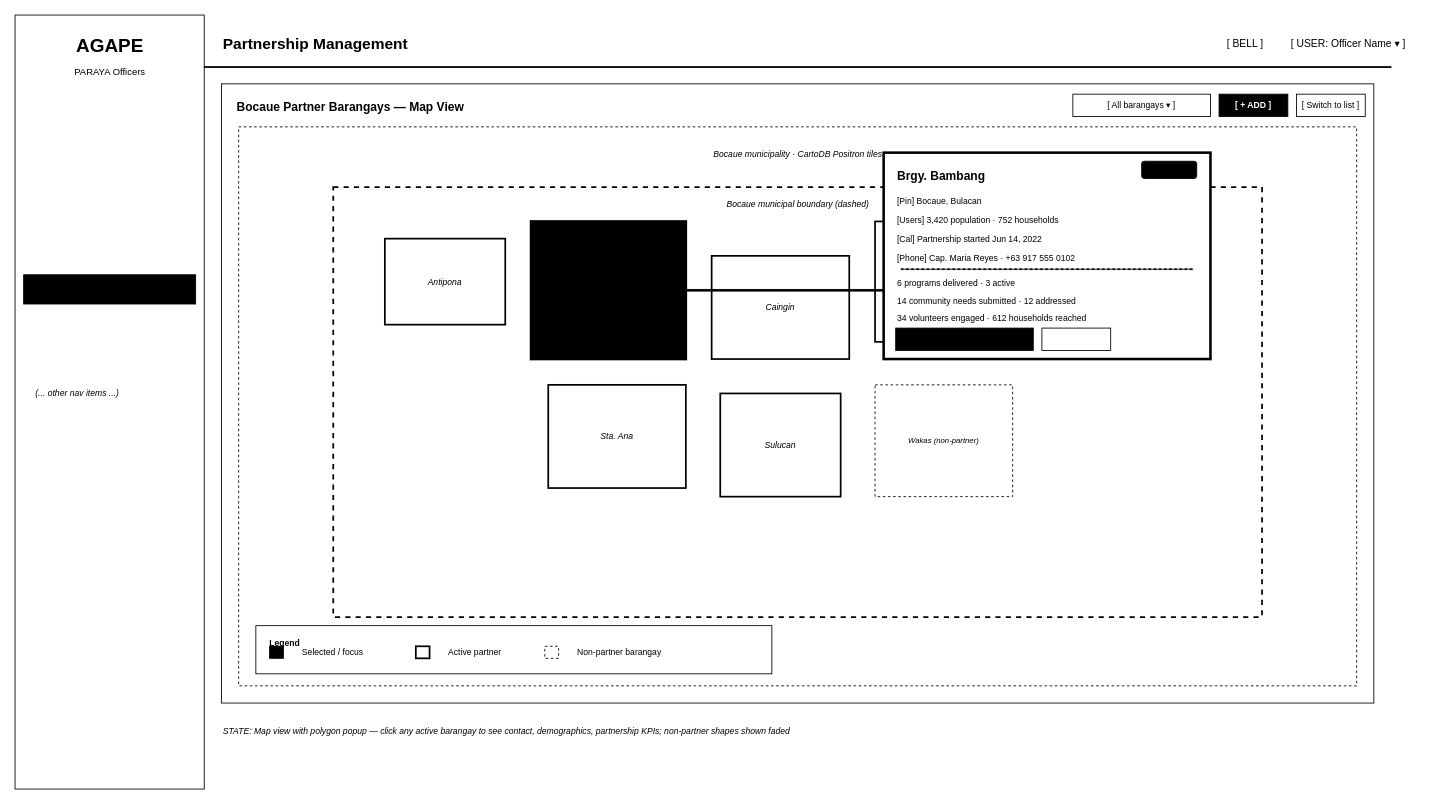
Some shapes in this 1441 by 804 pixel diagram are drawn without their labels. The centre of each missing label's shape, as x and y in pixels:
"( active )" belongs at pixel 1169 169.
"[ Edit ]" belongs at pixel 1076 338.
"[ Open detail → ]" belongs at pixel 964 338.
"[x] Partnerships" belongs at pixel 109 289.
"Bambang" belongs at pixel 608 290.
